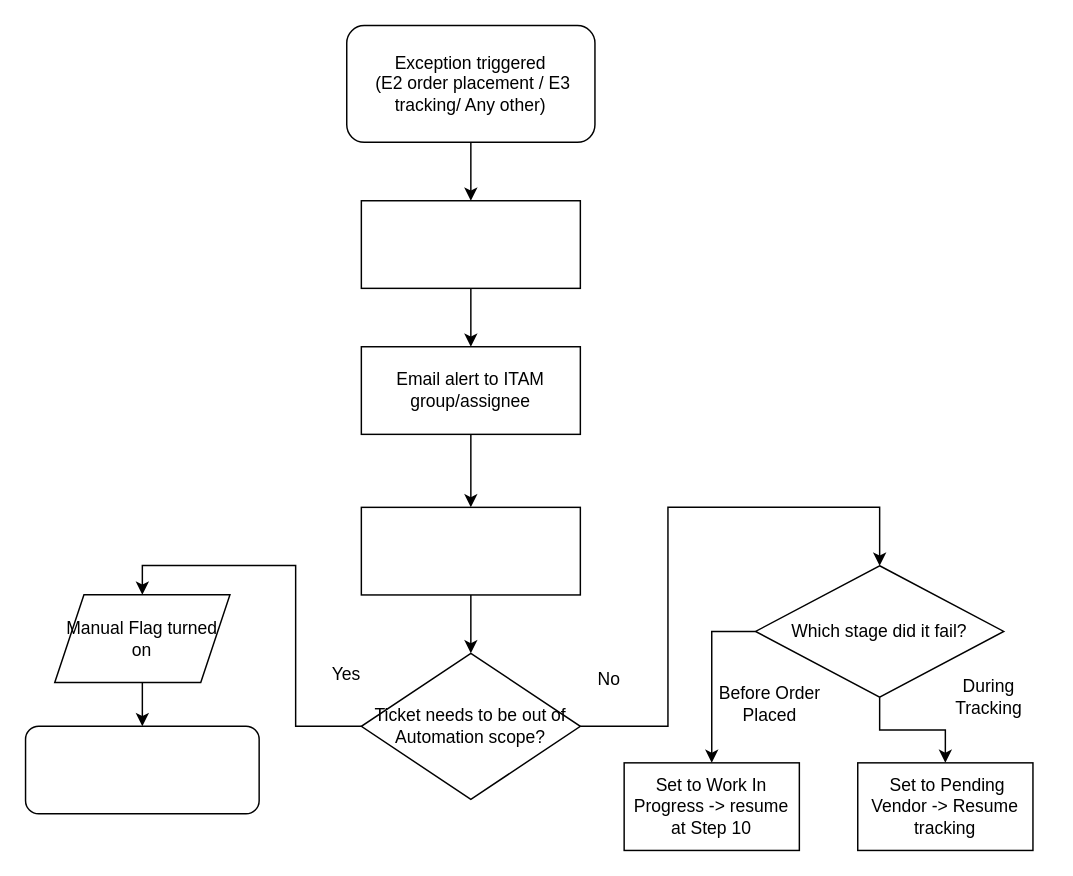
This 1073x876 diagram has some shape labels left out. The shapes that lost their labels are listed below. From the top down, each one's centre as x and y in pixels, then its label:
At (470,243): "SNOW state set to Pending & work note with error/reason posted".
At (470,550): "Team member resolves manually".
At (141,769): "Automation stands down completely -- team owns ticket fully until closure".
